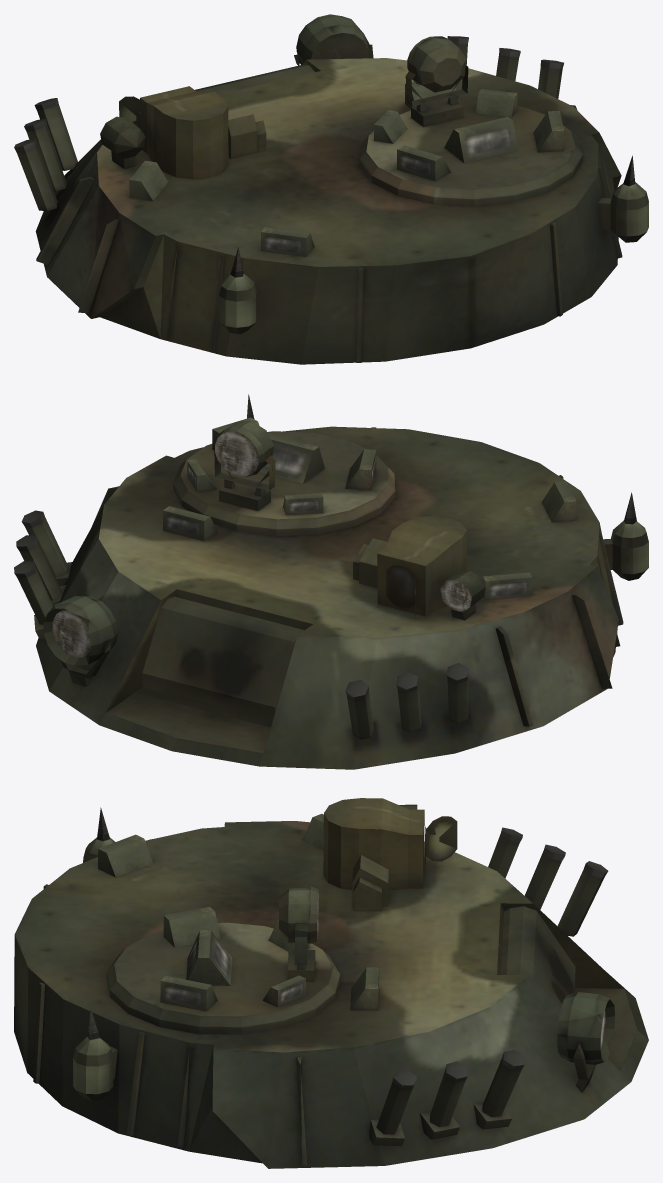
The model's file is Turret.fbx.
The picture shows the model from 3 angles, top to bottom: view 1: azimuth 30°, elevation 25°; view 2: azimuth 150°, elevation 25°; view 3: azimuth 270°, elevation 25°; orthographic projection. The views are drawn at different scales.
Parts seen in each view (by area): view 1: Turret; view 2: Turret; view 3: Turret.
Boxes of the visible parts, x1,y1,x2,y2 form: Turret: [14, 14, 648, 364]; Turret: [14, 394, 648, 769]; Turret: [14, 798, 648, 1168].
Bounding box in the file's own units: 2.49 × 0.8213 × 2.4.
